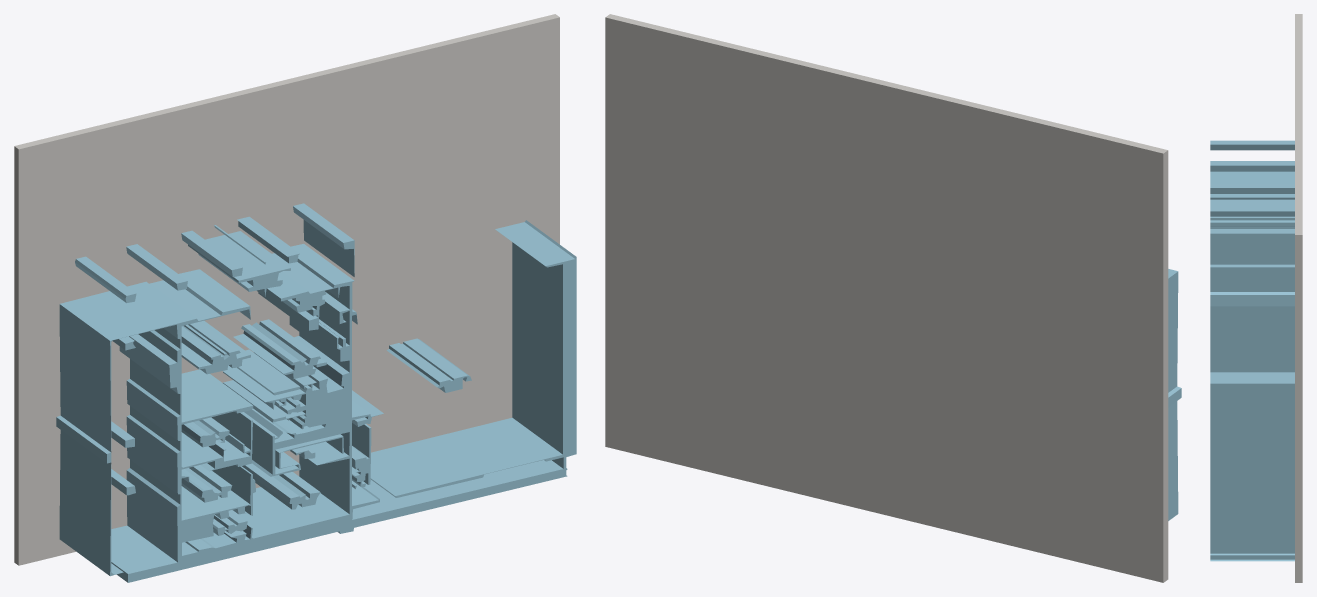
The picture shows the model from 3 angles, left to right: view 1: azimuth 30°, elevation 25°; view 2: azimuth 150°, elevation 25°; view 3: azimuth 270°, elevation 25°; orthographic projection. The views are drawn at different scales.
Visible parts, largest first — view 1: world; view 2: world; view 3: world.
Part boxes in pixels (left/top/right/bottom): world: left=14, top=14, right=576, bottom=582; world: left=605, top=14, right=1181, bottom=582; world: left=1210, top=14, right=1302, bottom=582.
Bounding box in the file's own units: 10.23 × 7.52 × 1.81.
